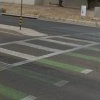crosswalk: (0, 36, 95, 70)
